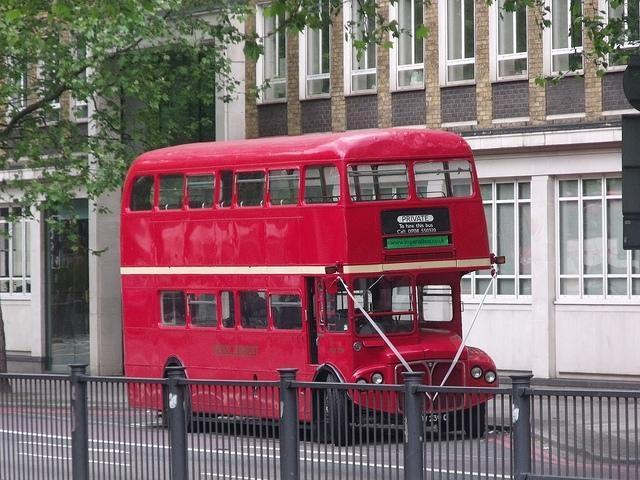bus: (119, 127, 506, 438)
